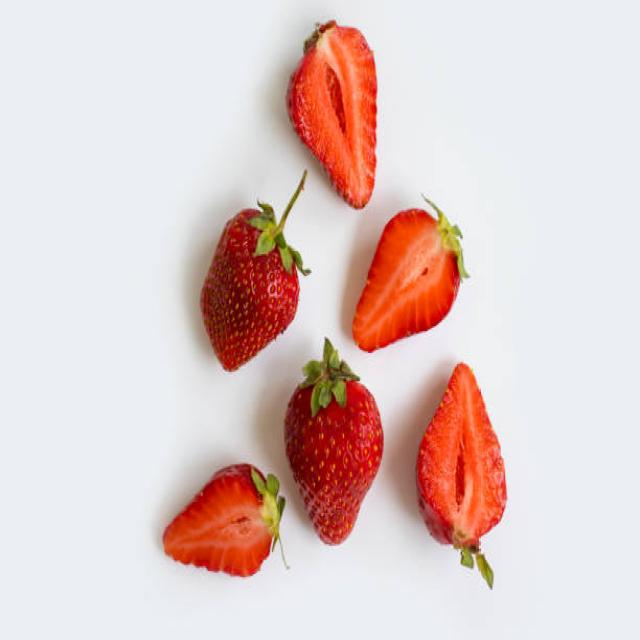Healthy Fruit: (283, 377, 385, 547), (199, 208, 299, 375)
